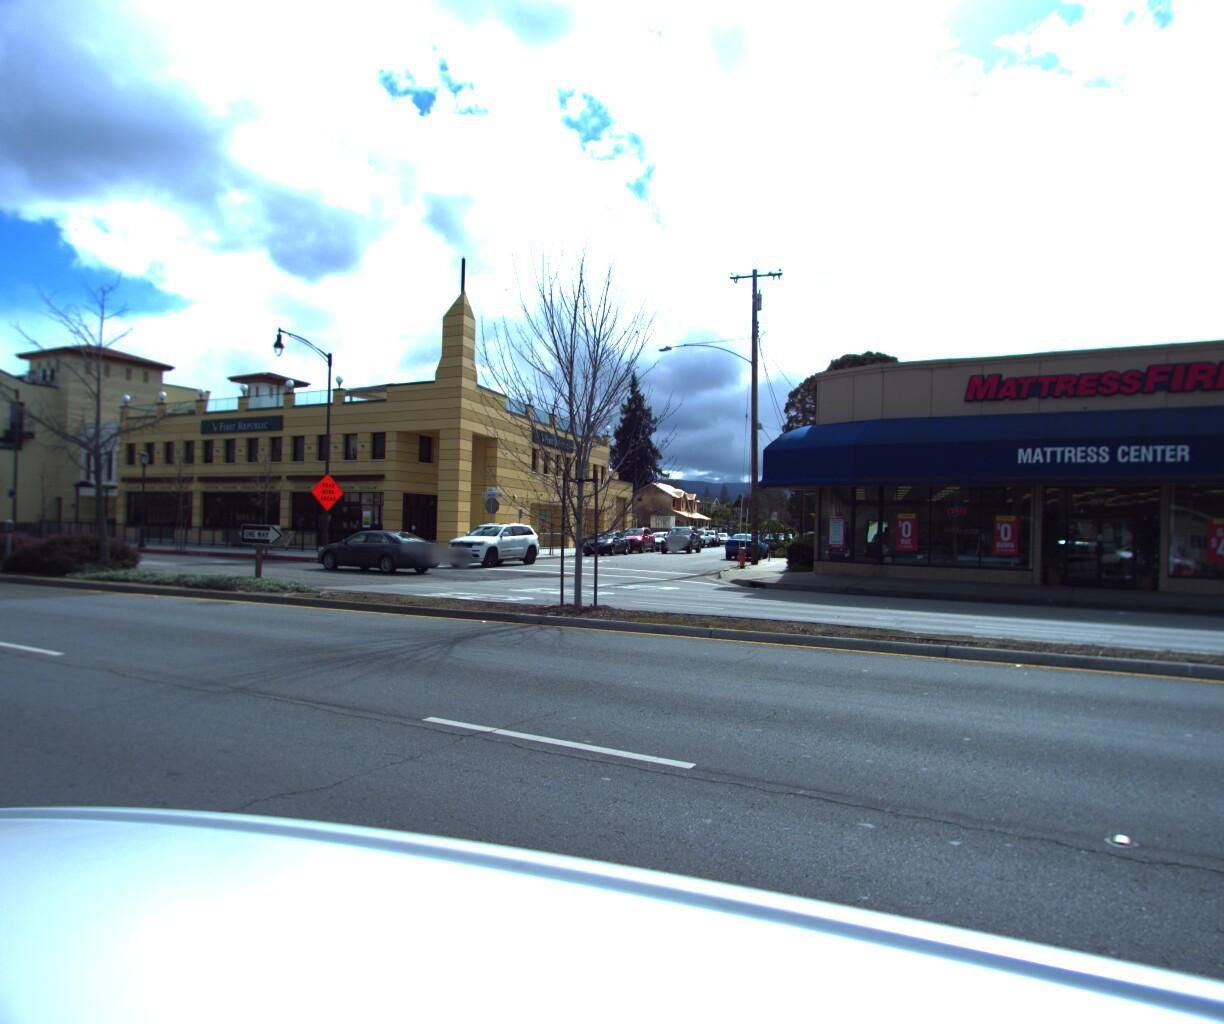car: (314, 535, 447, 585), (433, 526, 544, 577), (573, 539, 635, 565), (719, 538, 764, 570), (608, 539, 661, 562), (659, 540, 700, 565), (637, 538, 683, 560), (757, 537, 790, 561), (682, 533, 714, 554)
